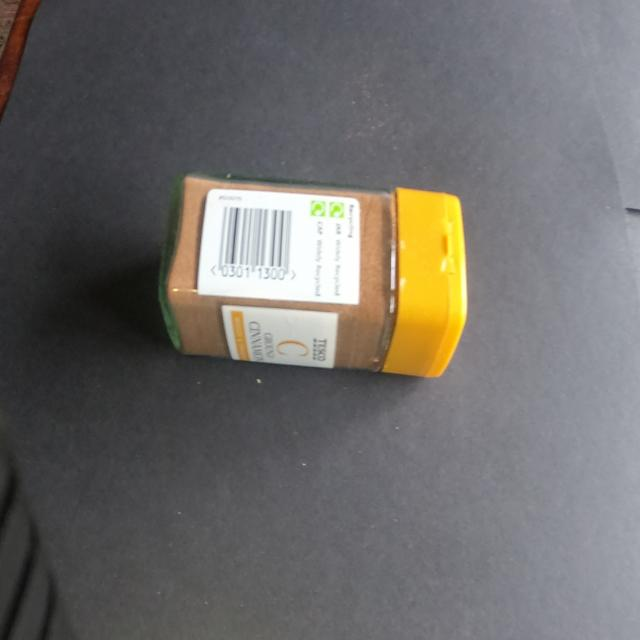Cinnamon: (135, 116, 505, 427)
